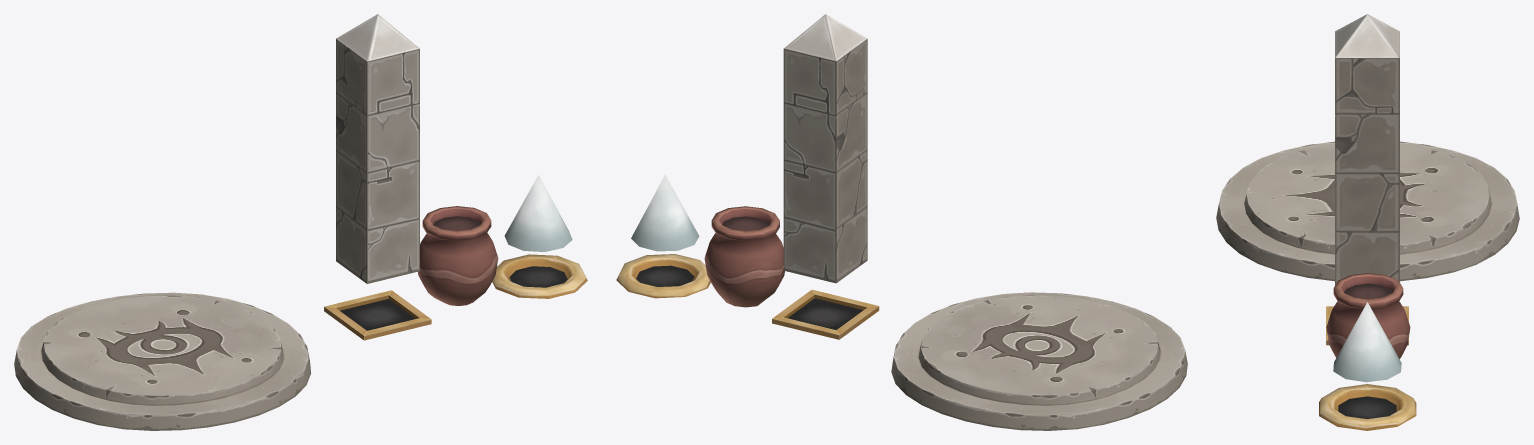
Rendered from dungeon_vase.fbx.
The picture shows the model from 3 angles, left to right: view 1: azimuth 30°, elevation 25°; view 2: azimuth 150°, elevation 25°; view 3: azimuth 270°, elevation 25°; orthographic projection. The views are drawn at different scales.
Visible parts, largest first — view 1: Object057_Mesh.021, Cube.001_Cube.004, Object161_Mesh.017, Torus_Torus.001; view 2: Object057_Mesh.021, Cube.001_Cube.004, Object161_Mesh.017, Torus_Torus.001; view 3: Object057_Mesh.021, Cube.001_Cube.004, Torus_Torus.001, Object161_Mesh.017.
Boxes of the visible parts, box(x1,y1,x2,y2) form: Object057_Mesh.021: box(14, 292, 310, 430); Cube.001_Cube.004: box(324, 14, 431, 340); Object161_Mesh.017: box(418, 206, 498, 305); Torus_Torus.001: box(492, 175, 587, 298); Object057_Mesh.021: box(891, 292, 1187, 430); Cube.001_Cube.004: box(772, 14, 879, 339); Object161_Mesh.017: box(704, 206, 784, 307); Torus_Torus.001: box(616, 174, 710, 298); Object057_Mesh.021: box(1216, 141, 1519, 281); Cube.001_Cube.004: box(1326, 14, 1408, 345); Torus_Torus.001: box(1319, 302, 1416, 430); Object161_Mesh.017: box(1326, 273, 1410, 358).
Bounding box in the file's own units: 408 × 217 × 190.
